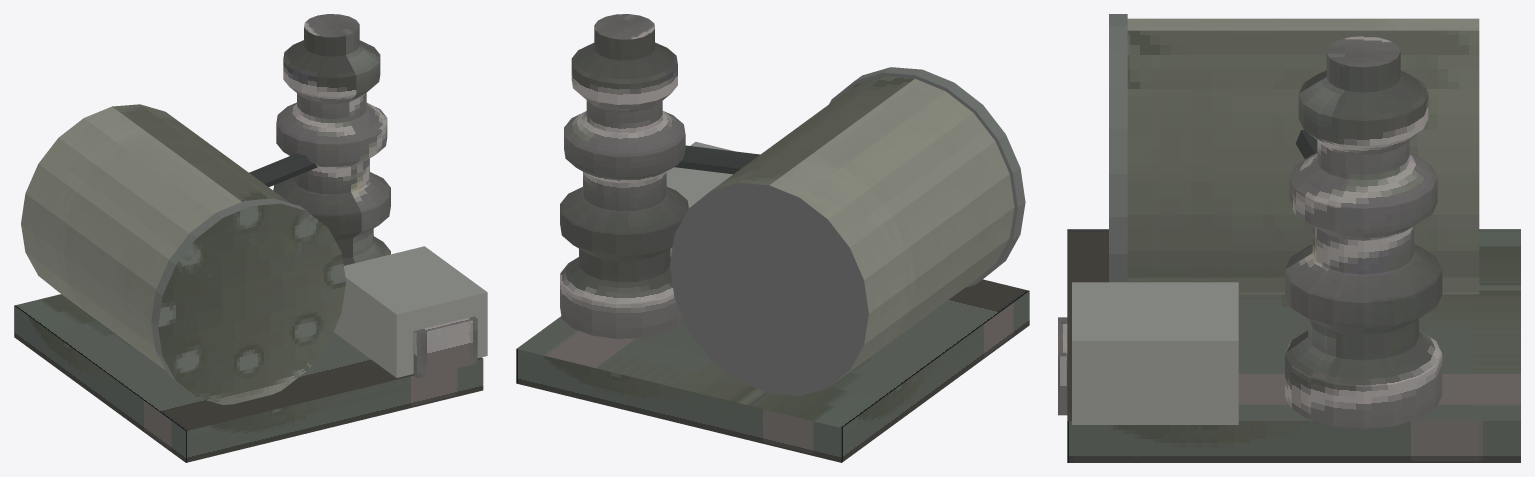
Rendered from Building_AncientGenerator.glb.
3 renders of one model, left to right at view 1: azimuth 30°, elevation 25°; view 2: azimuth 150°, elevation 25°; view 3: azimuth 270°, elevation 25°, orthographic. The views are drawn at different scales.
Visible parts, largest first — view 1: AncientGenerator; view 2: AncientGenerator; view 3: AncientGenerator.
Boxes of the visible parts, x1,y1,x2,y2 form: AncientGenerator: [14, 14, 487, 462]; AncientGenerator: [516, 14, 1029, 462]; AncientGenerator: [1058, 14, 1520, 462].
Size of the model in its own units: 1.06 by 0.92 by 1.
Materials: 1 (1 with a texture image).
